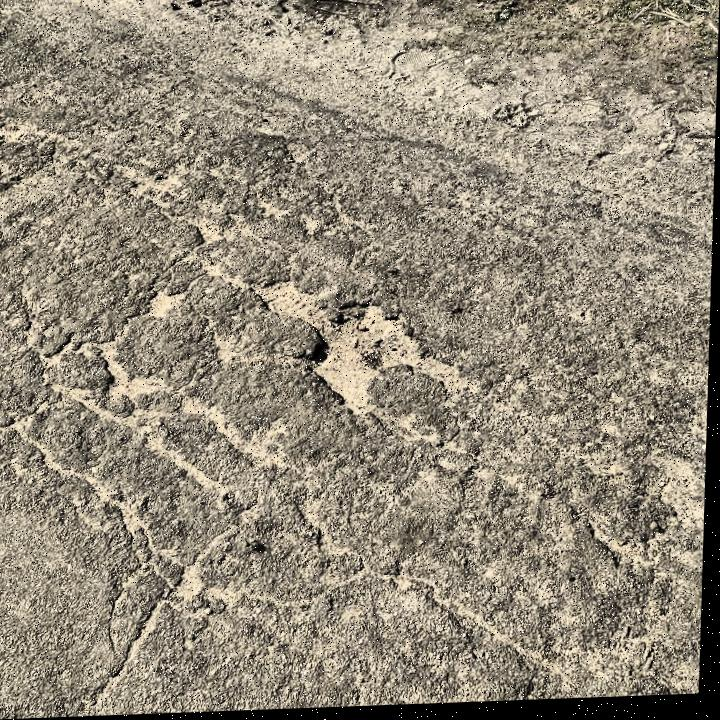pothole: (249, 273, 468, 421)
